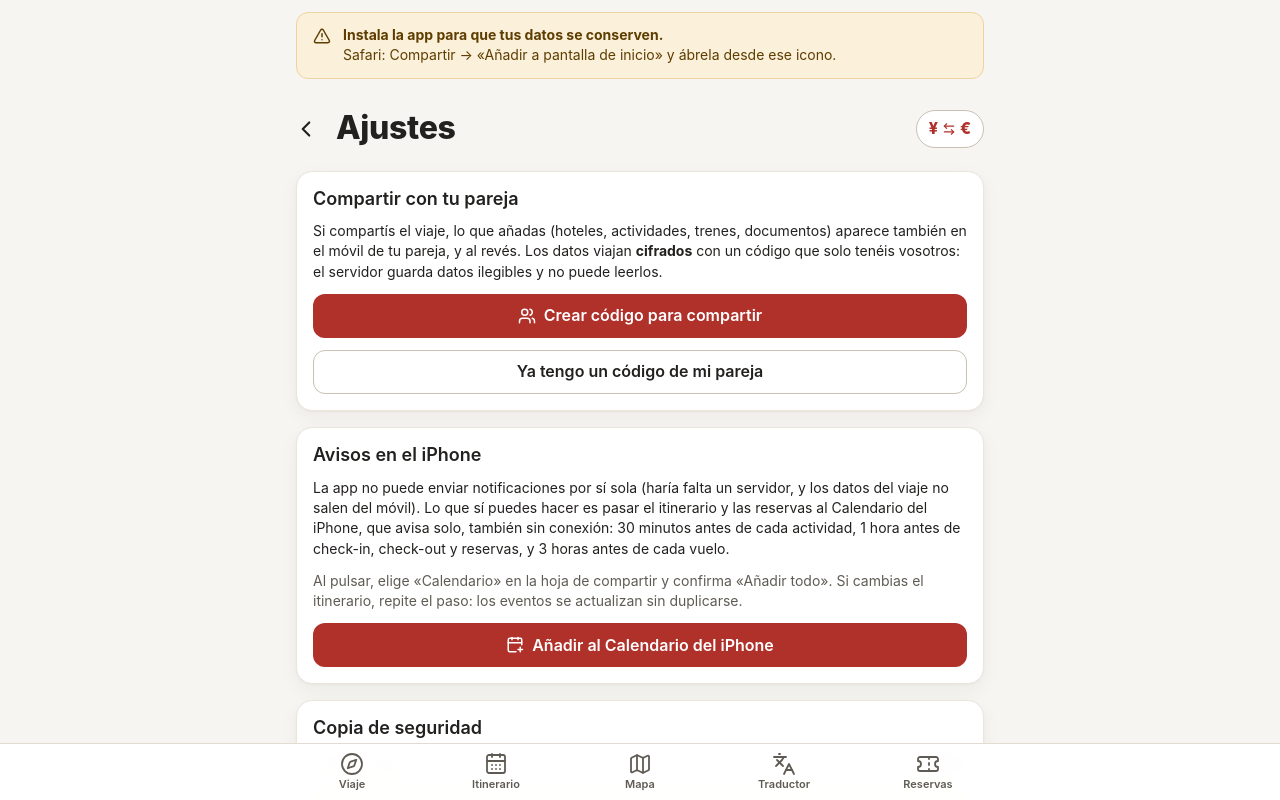
Test: compartir con tu pareja › crear el código sube los datos cifrados y deja ver, ocultar y copiar el código
expect the heading "Compartir con tu pareja" is shown: met, box [313,188,518,209]
Click the button "Crear código para compartir".
click(640, 316)  # box [313,294,967,338]
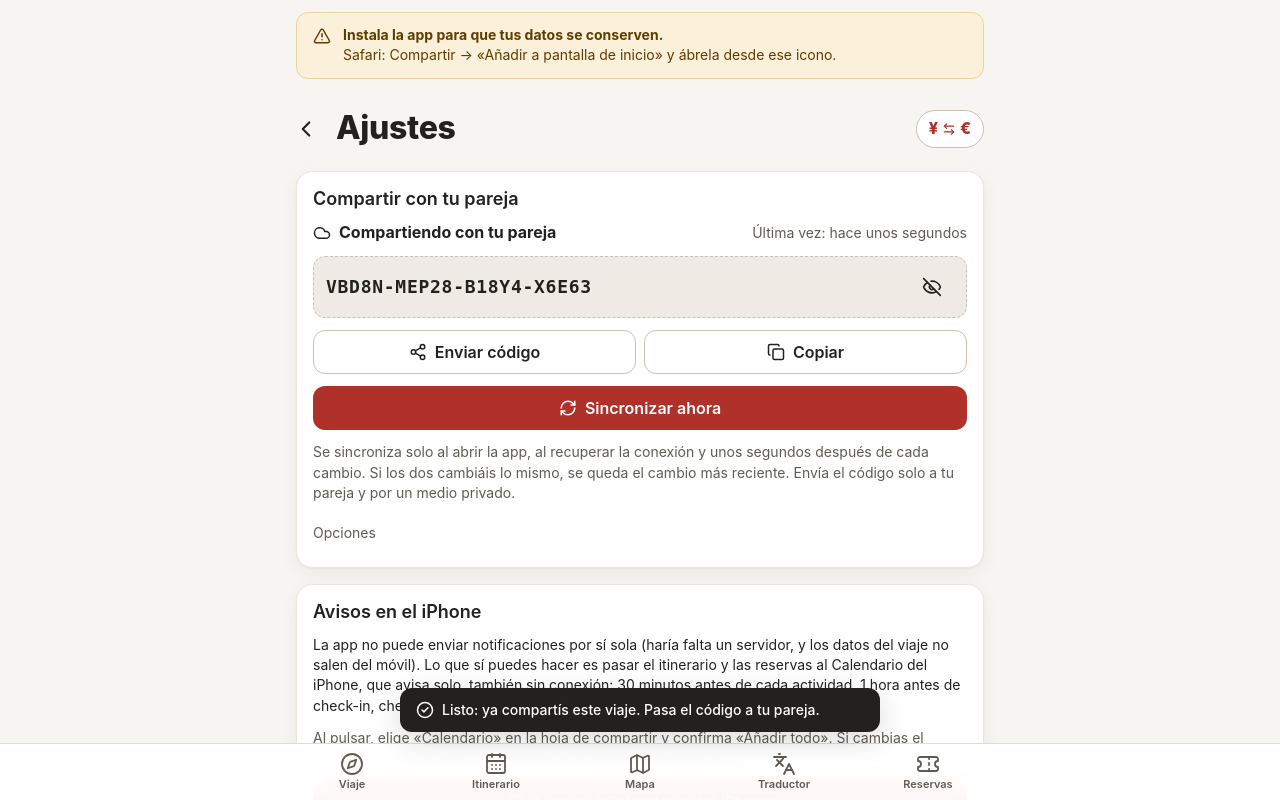
expect the text "Compartiendo con tu pareja" is shown: met, box [339,221,556,244]
Click the button named "Ocultar código".
click(932, 287)  # box [910,265,954,309]
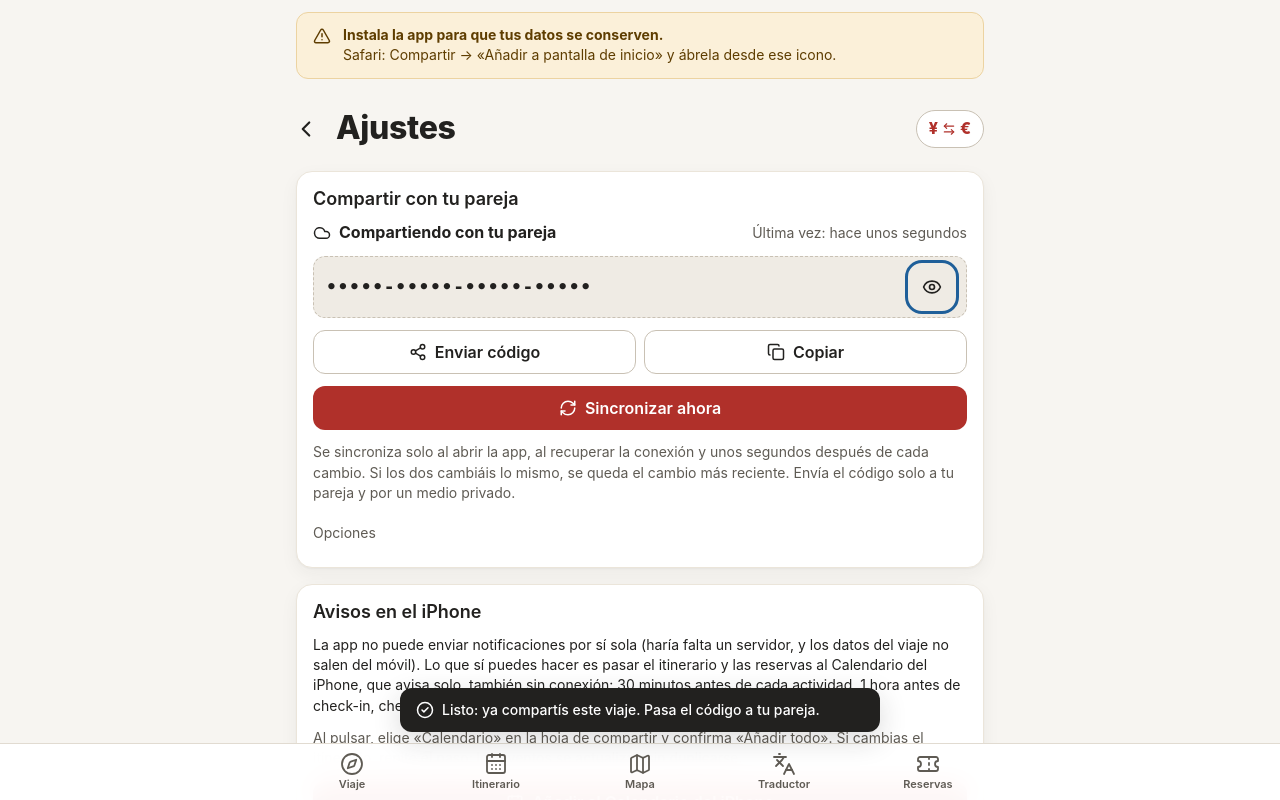
expect the text "•••••-•••••-•••••-•••••" is shown: met, box [326,274,592,300]
